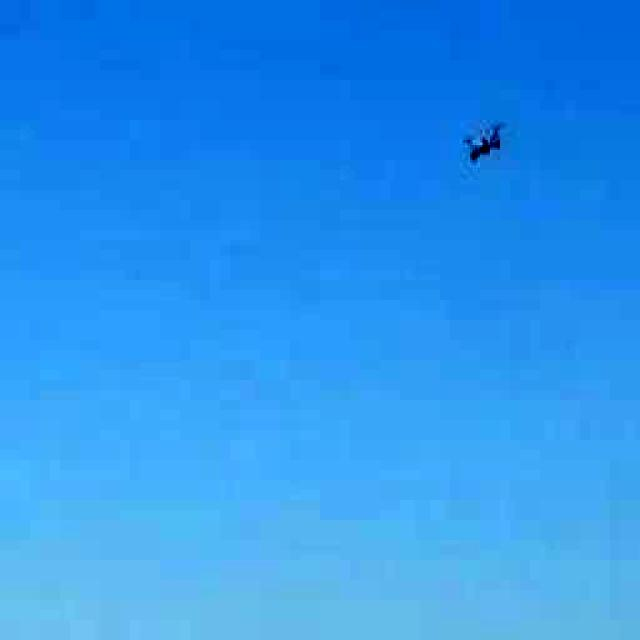bird: (428, 92, 538, 180)
